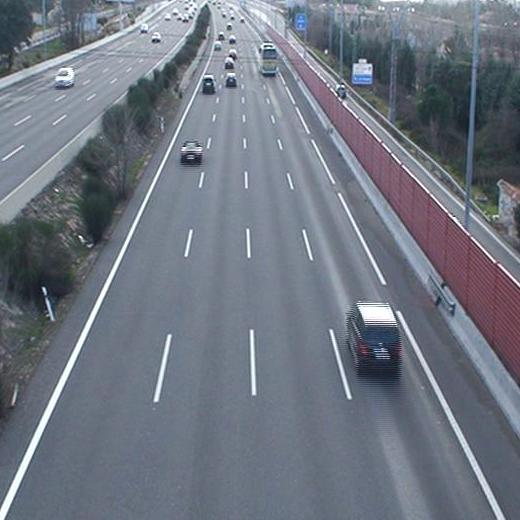bus: (254, 42, 281, 77)
car: (342, 301, 402, 375), (178, 140, 204, 166), (201, 75, 218, 95), (225, 72, 238, 87), (223, 57, 235, 69)
